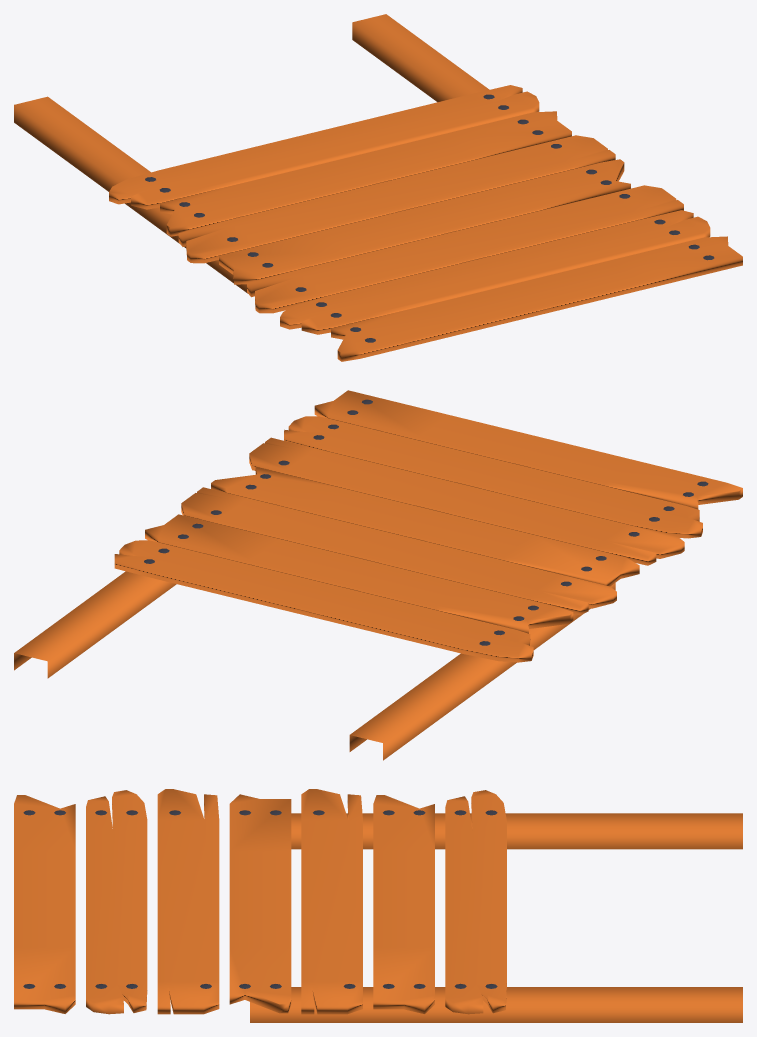
Rendered from bridge.fbx.
3 views of the same model, one above another, from view 1: azimuth 30°, elevation 25°; view 2: azimuth 150°, elevation 25°; view 3: azimuth 270°, elevation 25° (orthographic). The views are drawn at different scales.
Visible parts, largest first — view 1: Cube.008, Circle.001; view 2: Cube.008, Circle.001; view 3: Cube.008, Circle.001.
Boxes of the visible parts, x1=… form: Cube.008: x1=14, y1=14, x2=742, y2=361; Circle.001: x1=145, y1=94, x2=714, y2=342; Cube.008: x1=14, y1=390, x2=742, y2=760; Circle.001: x1=144, y1=399, x2=708, y2=645; Cube.008: x1=14, y1=789, x2=742, y2=1022; Circle.001: x1=23, y1=810, x2=497, y2=988.
Size of the model in its own units: 498 by 31.2 by 710.
